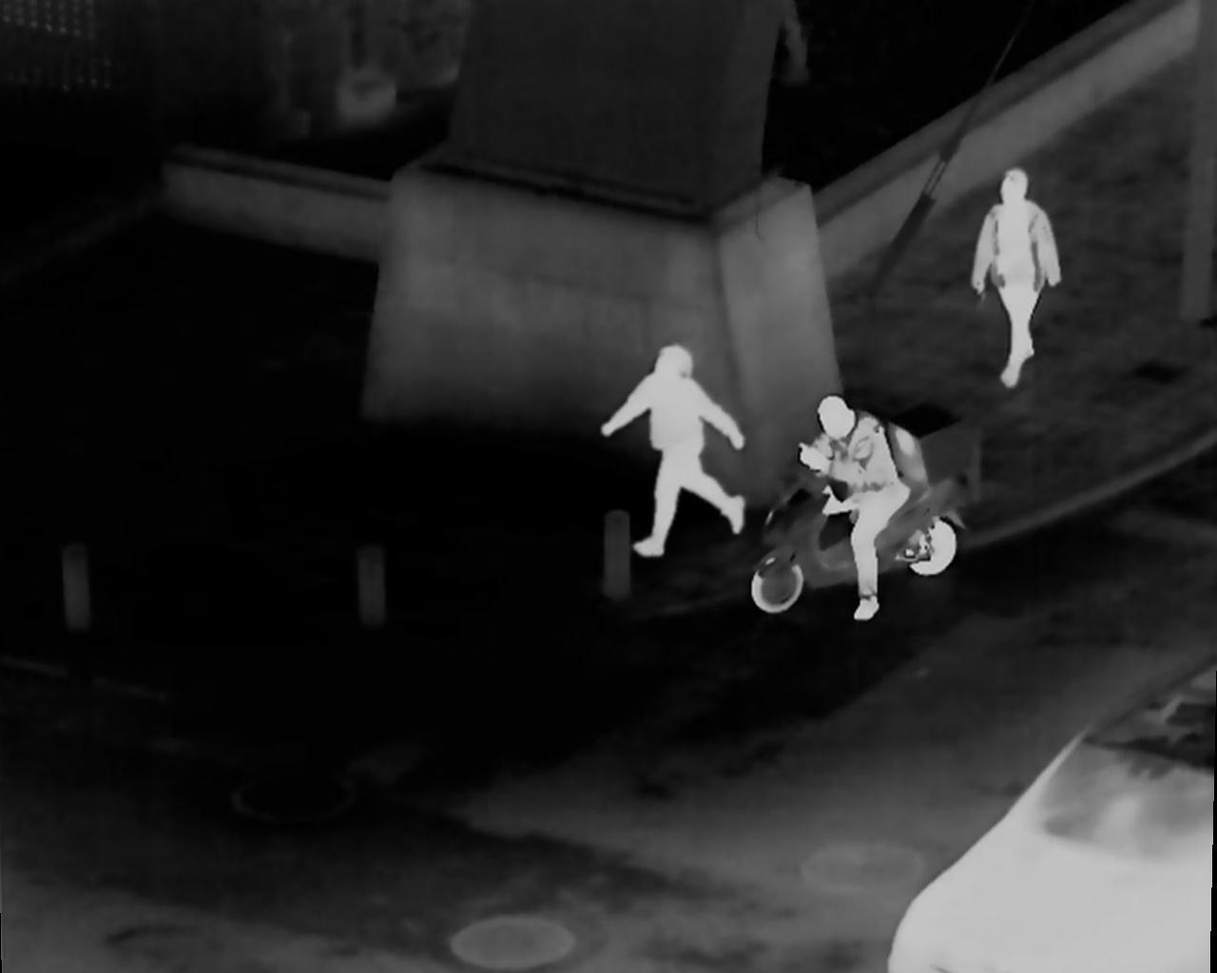person: (595, 338, 755, 552), (808, 391, 906, 617), (979, 158, 1059, 398)
